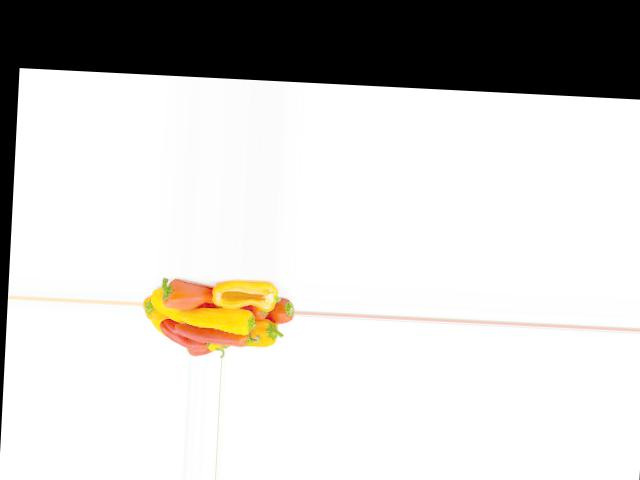bell_pepper: (250, 297, 295, 329)
